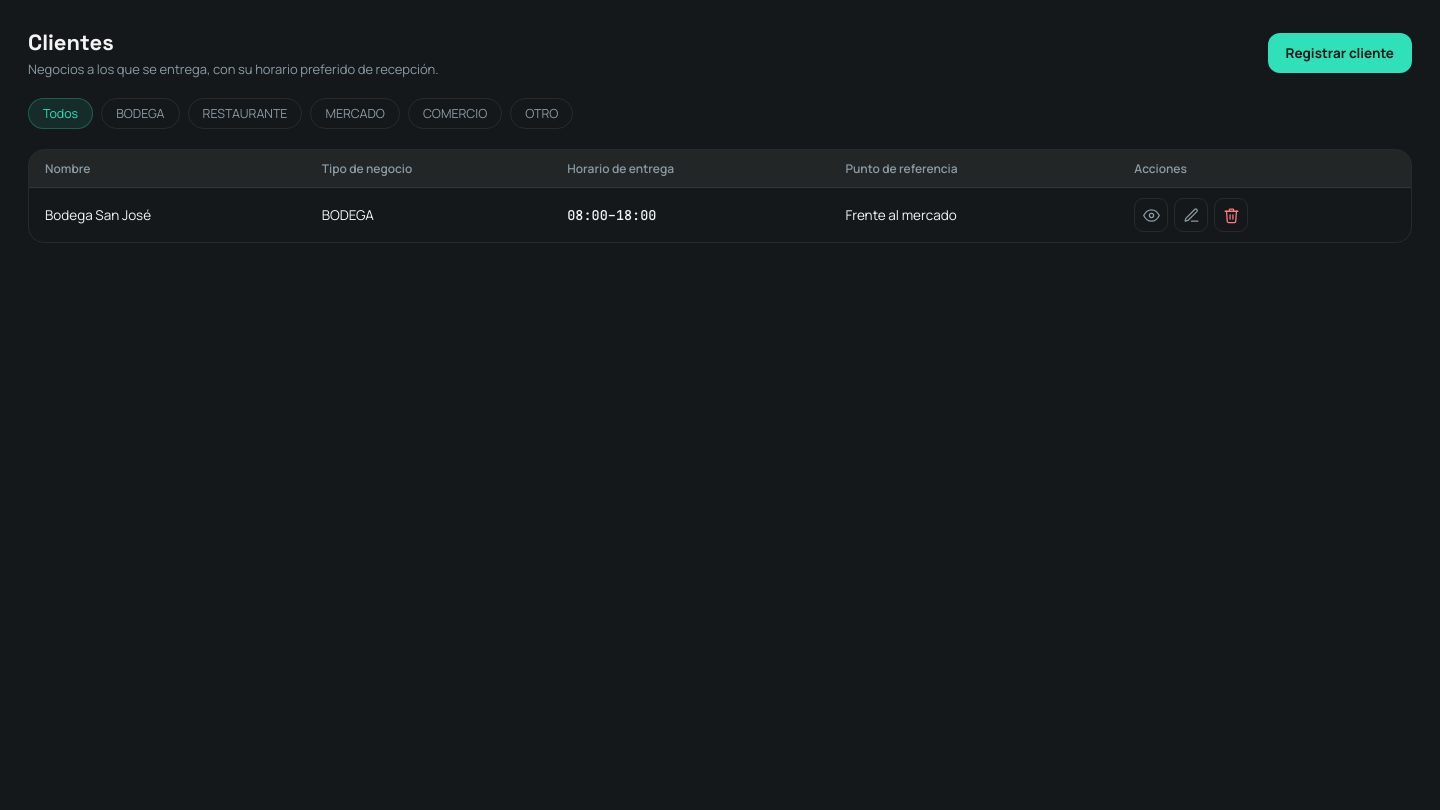
it: Clientes: detalle, edición y eliminación › eliminar pide confirmación y borra el cliente
This screenshot has width=1440, height=810.
Step 1. Click the button named "Eliminar Bodega San José" → (1231, 215), box [1214, 198, 1248, 232]
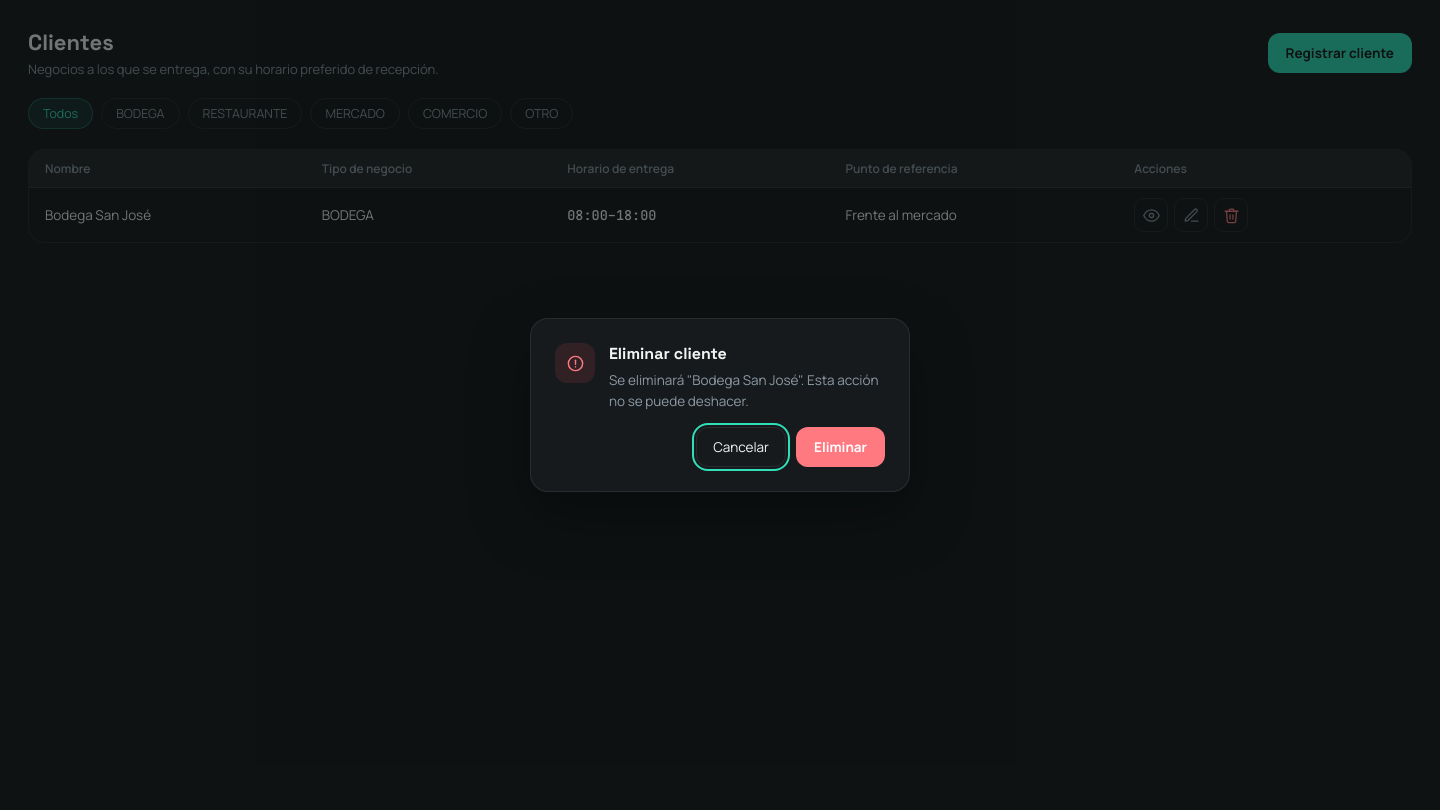
Step 2. Click the button "Eliminar" → (840, 447), box [796, 427, 885, 467]
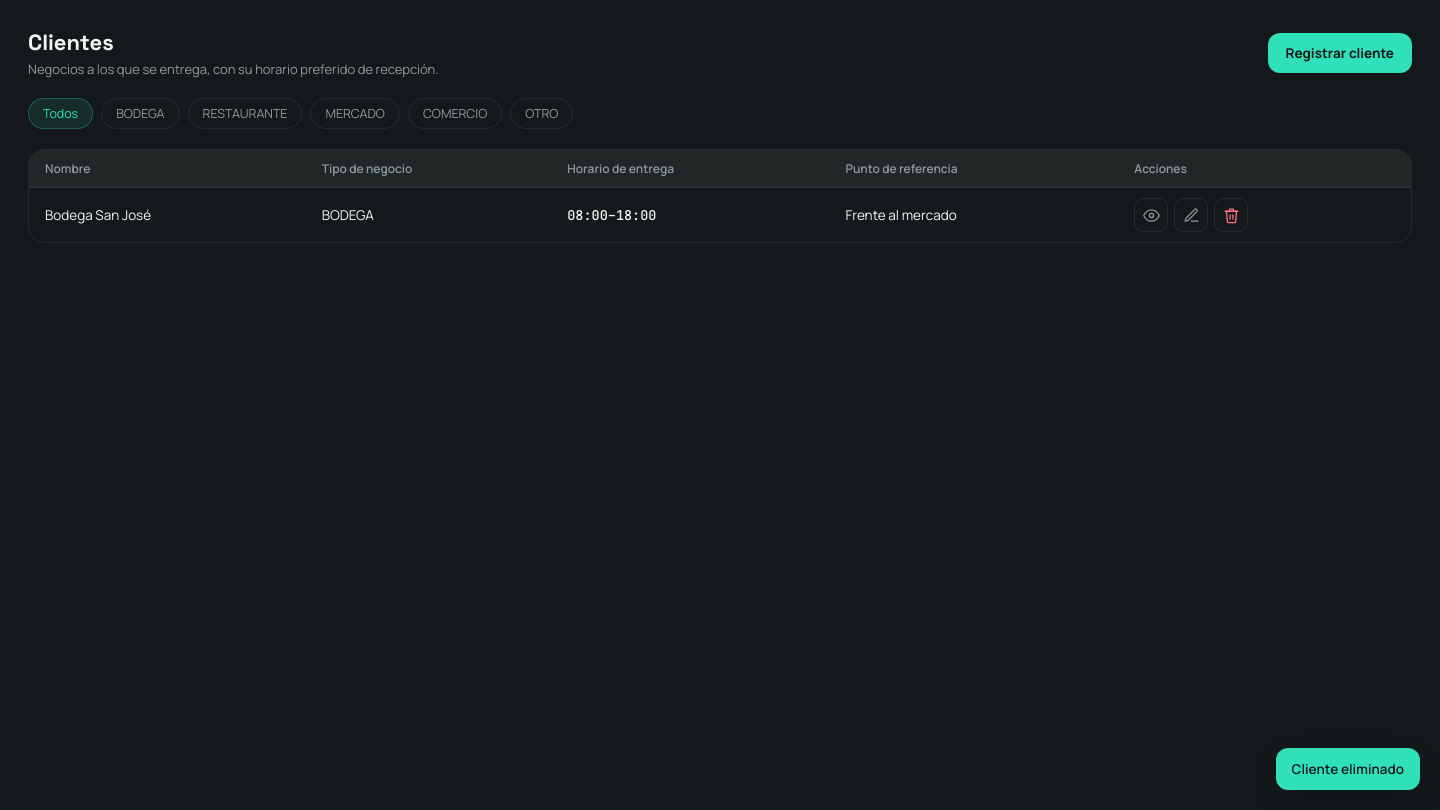
Check: the text "Cliente eliminado" is shown, box [1276, 748, 1420, 790]
